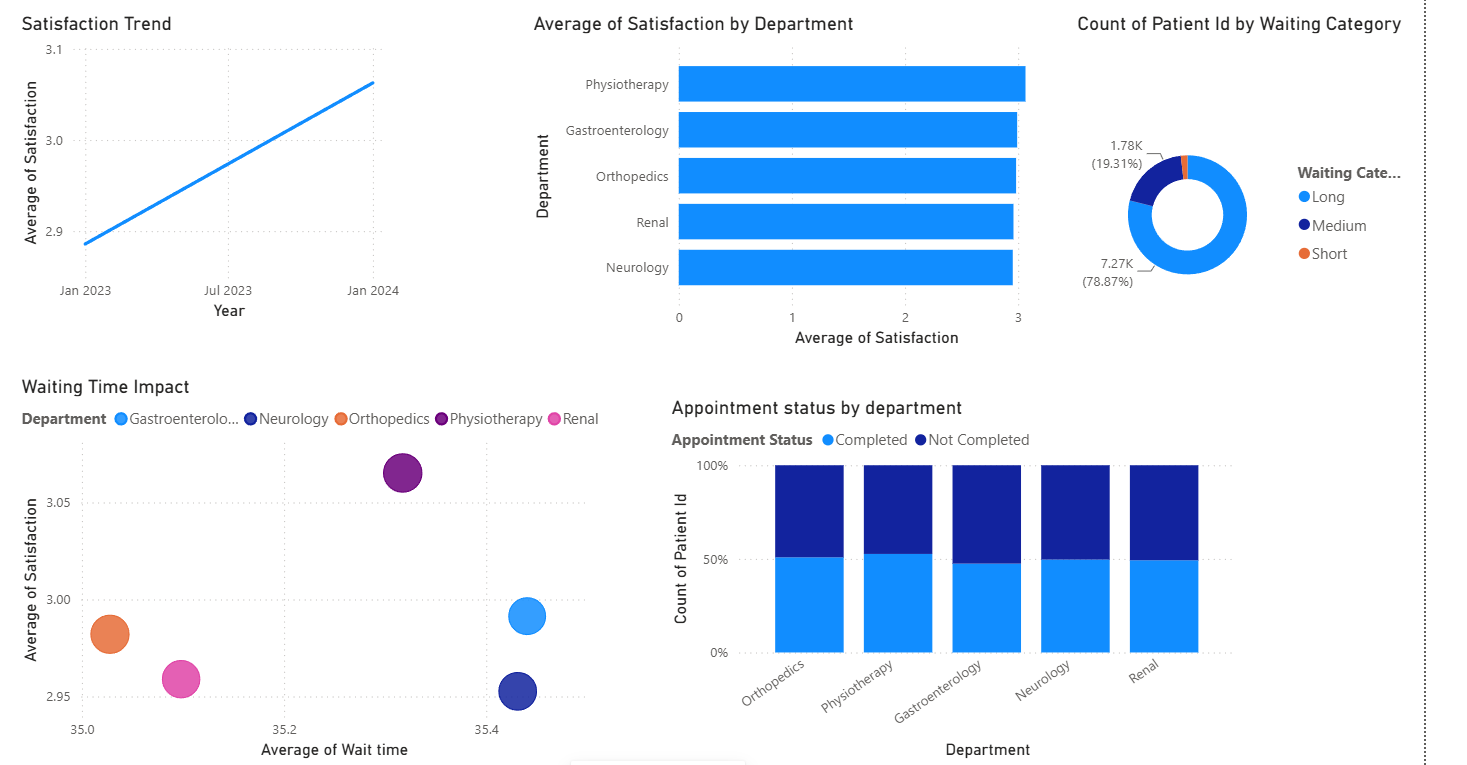

The dashboard page shown, as its layout file describes it:
{"tool":"powerbi","page":{"name":"Patient Experience Dashboard","canvas":[1280,720],"ordinal":3},"visuals":[{"type":"lineChart","title":"Satisfaction Trend","fields":{"Category":["hospital3.Appointment Date.Variation.Date Hierarchy.Year","hospital3.Appointment Date.Variation.Date Hierarchy.Quarter","hospital3.Appointment Date.Variation.Date Hierarchy.Month","hospital3.Appointment Date.Variation.Date Hierarchy.Day"],"Y":["Avg(hospital3.Satisfaction)"]},"box":[20,15.7,348.6,280],"z":0},{"type":"scatterChart","title":"Waiting Time Impact","fields":{"X":["Avg(hospital3.Wait time)"],"Y":["Avg(hospital3.Satisfaction)"],"Series":["hospital3.Department"],"Size":["Avg(hospital3.Total Bill)"]},"box":[20,341.4,528.6,348.6],"z":1},{"type":"clusteredBarChart","fields":{"Category":["hospital3.Department"],"Y":["Avg(hospital3.Satisfaction)"]},"box":[478.6,15.7,498.6,304.3],"z":2},{"type":"donutChart","fields":{"Category":["hospital3.Waiting Category"],"Y":["CountNonNull(hospital3.Patient Id)"]},"box":[965.7,15.7,302.9,344.3],"z":3},{"type":"hundredPercentStackedColumnChart","title":"Appointment status by department","fields":{"Series":["hospital3.Appointment Status"],"Category":["hospital3.Department"],"Y":["CountNonNull(hospital3.Patient Id)"]},"box":[601.4,360,515.7,330],"z":4}]}

Visuals, with their boxes on the page's 1280x720 design canvas (x1, y1, x2, y2). These are canvas units, not pixel positions in the 1467x765 screenshot, which may show the page scaled, cropped or inside an application window:
"Satisfaction Trend" lineChart: <bbox>20, 16, 369, 296</bbox>
"Waiting Time Impact" scatterChart: <bbox>20, 341, 549, 690</bbox>
clusteredBarChart - hospital3.Department x Avg(hospital3.Satisfaction): <bbox>479, 16, 977, 320</bbox>
donutChart - hospital3.Waiting Category x CountNonNull(hospital3.Patient Id): <bbox>966, 16, 1269, 360</bbox>
"Appointment status by department" hundredPercentStackedColumnChart: <bbox>601, 360, 1117, 690</bbox>
